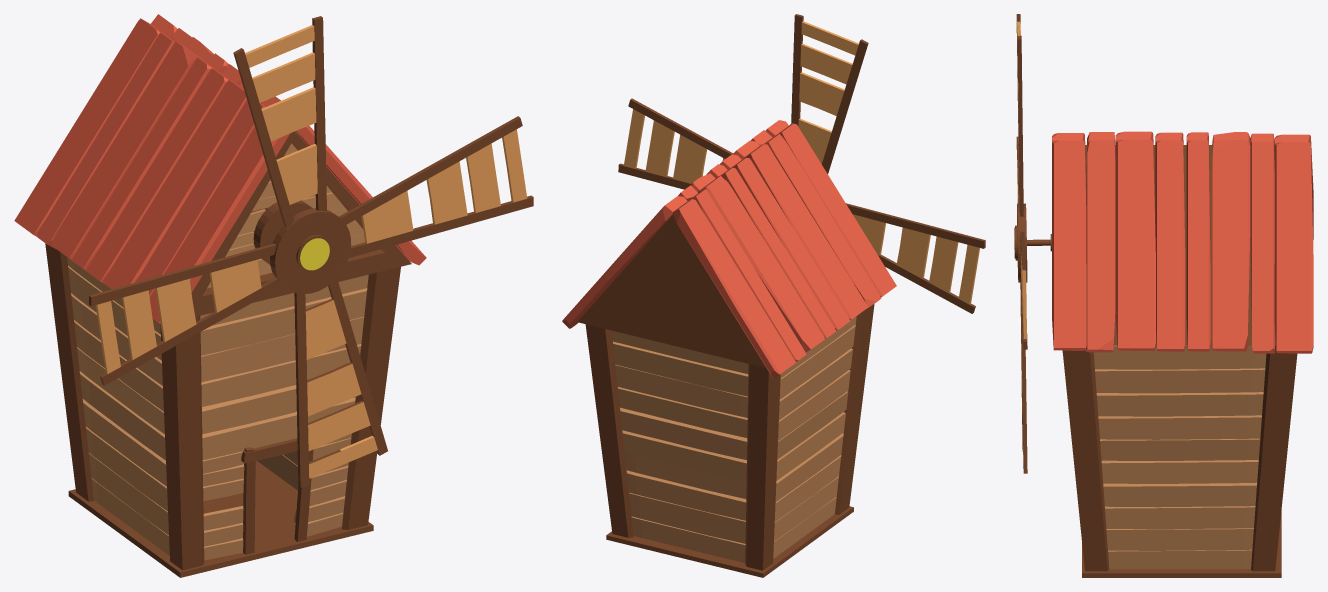
The model's file is Windmill.fbx.
The picture shows the model from 3 angles, left to right: view 1: azimuth 30°, elevation 25°; view 2: azimuth 150°, elevation 25°; view 3: azimuth 270°, elevation 25°; orthographic projection. The views are drawn at different scales.
Parts seen in each view (by area): view 1: Base; view 2: Base; view 3: Base.
Part boxes in pixels (x1,y1,x2,y2): Base: (14,14,533,577); Base: (562,14,985,577); Base: (1014,14,1313,577).
Bounding box in the file's own units: 462 × 554 × 300.
